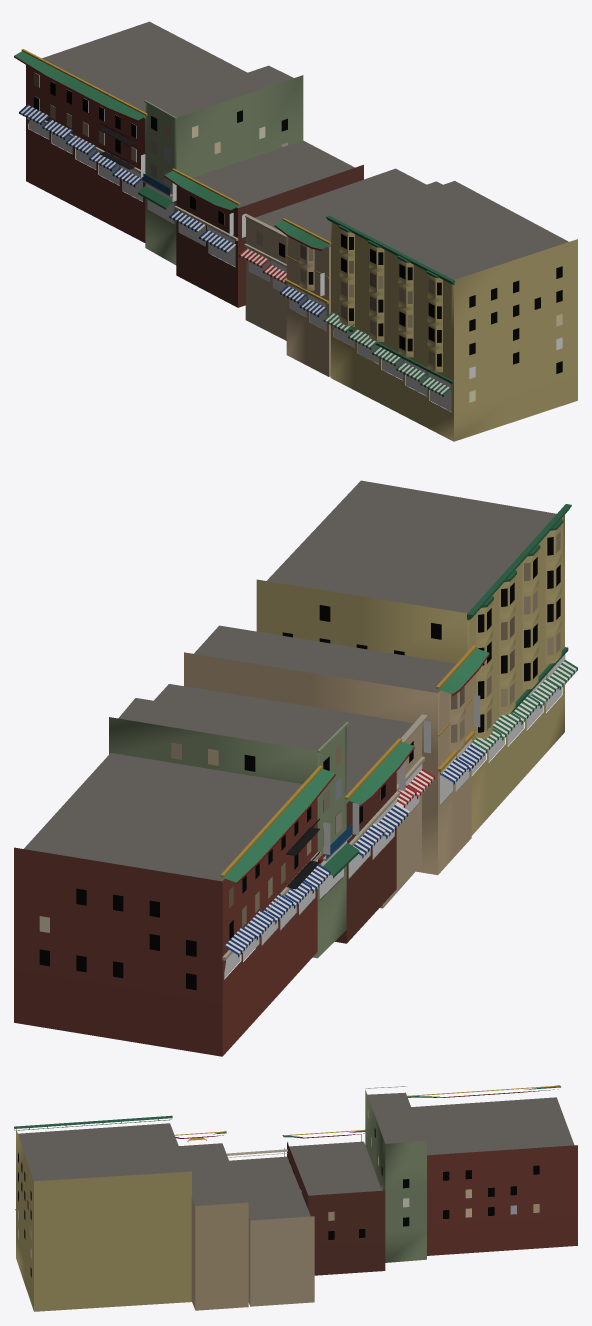
3 renders of one model, top to bottom at view 1: azimuth 30°, elevation 25°; view 2: azimuth 150°, elevation 25°; view 3: azimuth 270°, elevation 25°, orthographic. The views are drawn at different scales.
Visible parts, largest first — view 1: L1_stucco, L1_roof, L1_brickred, L1_win, L1_d_fabric, L1_shopint, L1_brick, L1_rooftile, L1_stone, L1_d_paint, L1_sign; view 2: L1_roof, L1_stucco, L1_brickred, L1_win, L1_d_fabric, L1_rooftile, L1_shopint, L1_stone, L1_brick, L1_d_paint, L1_sign, L1_d_metal; view 3: L1_roof, L1_d_stucco, L1_brickred, L1_stucco, L1_d_brick, L1_win, L1_stone, L1_d_paint.
Boxes of the visible parts, <box> form: L1_stucco: <box>145,75,577,441</box>; L1_roof: <box>42,21,568,279</box>; L1_brickred: <box>26,65,363,307</box>; L1_win: <box>34,72,562,402</box>; L1_d_fabric: <box>19,104,451,396</box>; L1_shopint: <box>28,120,451,411</box>; L1_brick: <box>245,219,295,340</box>; L1_rooftile: <box>14,51,330,249</box>; L1_stone: <box>43,100,454,384</box>; L1_d_paint: <box>14,49,331,250</box>; L1_sign: <box>27,118,450,387</box>; L1_roof: <box>24,480,556,881</box>; L1_stucco: <box>109,515,564,958</box>; L1_brickred: <box>14,772,396,1056</box>; L1_win: <box>39,531,560,990</box>; L1_d_fabric: <box>224,660,577,957</box>; L1_rooftile: <box>222,648,489,882</box>; L1_shopint: <box>224,688,562,978</box>; L1_stone: <box>222,504,571,960</box>; L1_brick: <box>383,724,421,907</box>; L1_d_paint: <box>220,645,489,884</box>; L1_sign: <box>226,654,565,965</box>; L1_d_metal: <box>286,818,319,889</box>; L1_roof: <box>18,1092,574,1220</box>; L1_d_stucco: <box>34,1171,248,1311</box>; L1_brickred: <box>287,1142,577,1275</box>; L1_stucco: <box>16,1090,426,1310</box>; L1_d_brick: <box>248,1216,314,1306</box>; L1_win: <box>18,1108,539,1277</box>; L1_stone: <box>14,1086,406,1210</box>; L1_d_paint: <box>174,1085,560,1138</box>.
Bounding box in the file's own units: 34.51 × 24.72 × 86.7.
